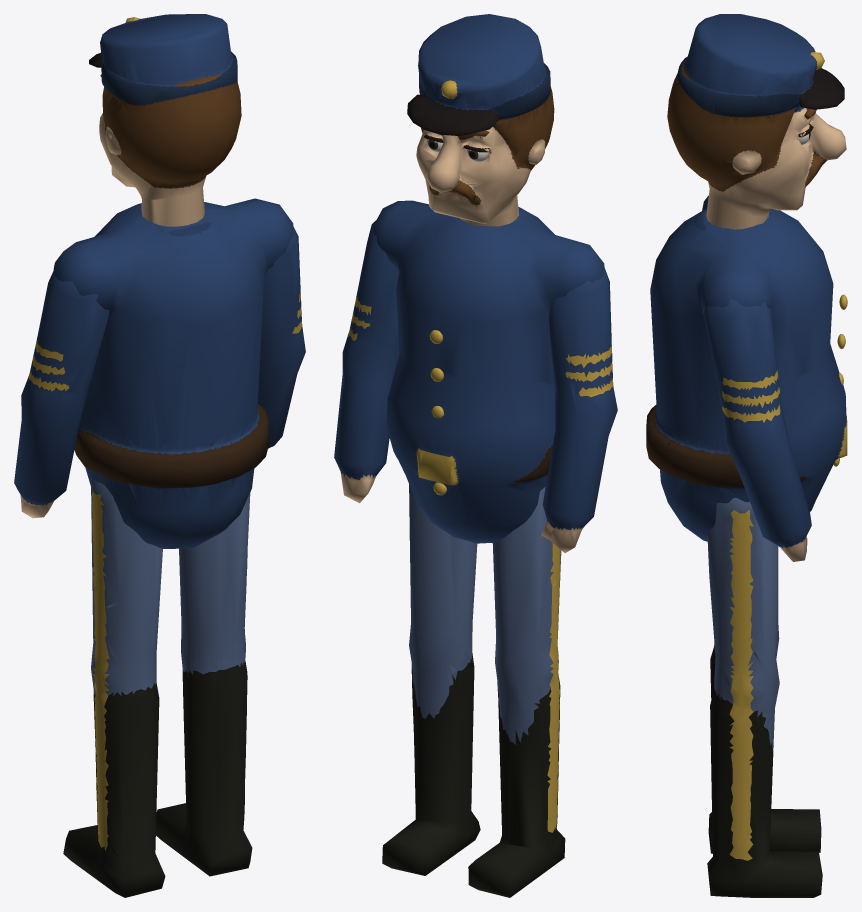
Rendered from sergeant.glb.
3 views of the same model, side by side, from view 1: azimuth 30°, elevation 25°; view 2: azimuth 150°, elevation 25°; view 3: azimuth 270°, elevation 25° (orthographic). The views are drawn at different scales.
Parts seen in each view (by area): view 1: body_lod0, leg_l_lod0, head_lod0, leg_r_lod0, arm_l_lod0, arm_r_lod0; view 2: body_lod0, head_lod0, leg_l_lod0, leg_r_lod0, arm_l_lod0, arm_r_lod0; view 3: body_lod0, head_lod0, leg_r_lod0, arm_r_lod0, leg_l_lod0.
Part boxes in pixels (x1,y1,x2,y2): body_lod0: (53, 198, 293, 548); leg_l_lod0: (63, 477, 165, 897); head_lod0: (89, 14, 241, 226); leg_r_lod0: (156, 493, 252, 876); arm_l_lod0: (14, 271, 109, 518); arm_r_lod0: (258, 226, 305, 448); body_lod0: (373, 200, 604, 543); head_lod0: (407, 14, 554, 226); leg_l_lod0: (468, 487, 565, 897); leg_r_lod0: (382, 484, 480, 875); arm_l_lod0: (541, 268, 617, 552); arm_r_lod0: (334, 220, 399, 503); body_lod0: (646, 195, 847, 541); head_lod0: (667, 14, 846, 229); leg_r_lod0: (707, 497, 822, 897); arm_r_lod0: (703, 298, 811, 561); leg_l_lod0: (708, 546, 821, 853).
Size of what is drawn, in the model's own units: 0.6486 by 1.94 by 0.4195.
